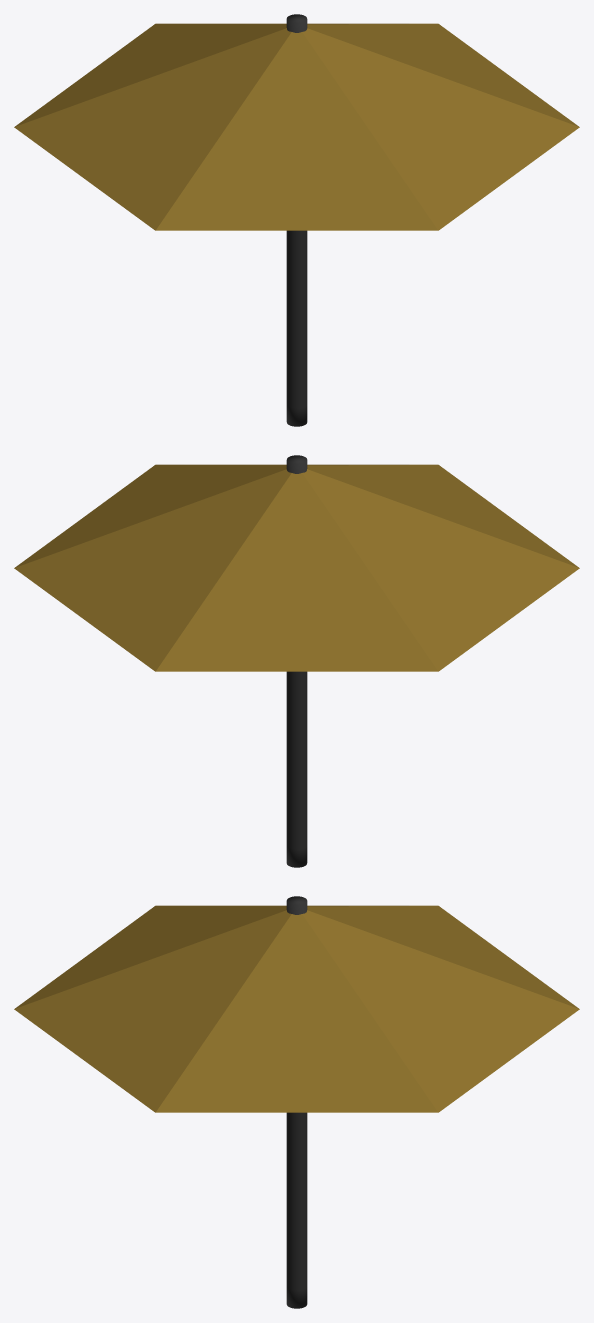
Rendered from asd.glb.
3 renders of one model, top to bottom at view 1: azimuth 30°, elevation 25°; view 2: azimuth 150°, elevation 25°; view 3: azimuth 270°, elevation 25°, orthographic.
Parts seen in each view (by area): view 1: Cone, Cylinder; view 2: Cone, Cylinder; view 3: Cone, Cylinder.
Boxes of the visible parts, x1,y1,x2,y2 form: Cone: [14, 23, 579, 230]; Cylinder: [286, 14, 307, 426]; Cone: [14, 464, 579, 671]; Cylinder: [286, 455, 307, 867]; Cone: [14, 905, 579, 1112]; Cylinder: [286, 896, 307, 1308].
Size of the model in its own units: 6.92 by 6.29 by 7.99.
